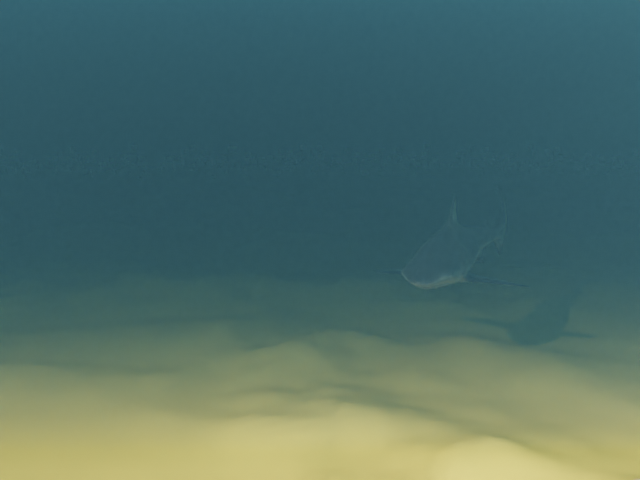Carribean Shark.001: (372, 186, 532, 289)
